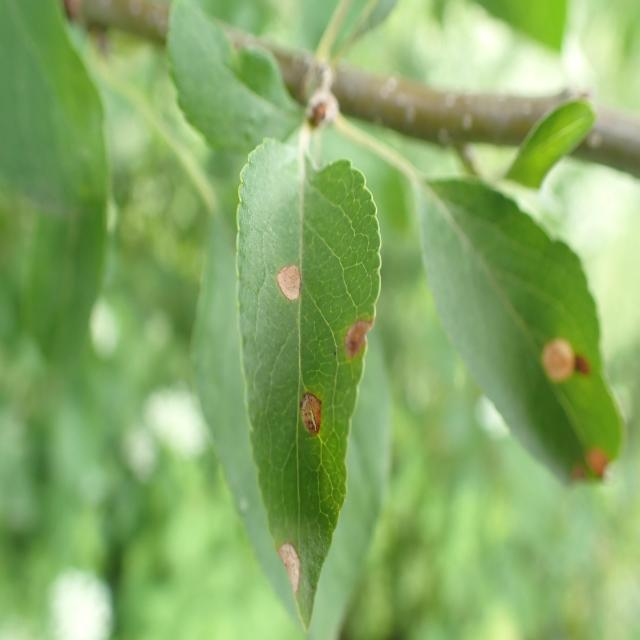Black Rot: (254, 249, 320, 336), (536, 325, 587, 408), (274, 522, 314, 614), (286, 392, 344, 441), (340, 309, 380, 369)
